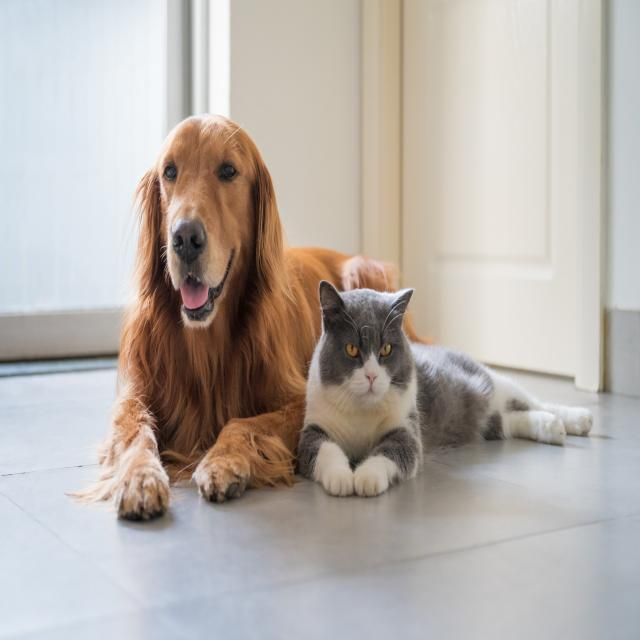cat: (299, 266, 598, 498)
dog: (99, 111, 416, 525)
